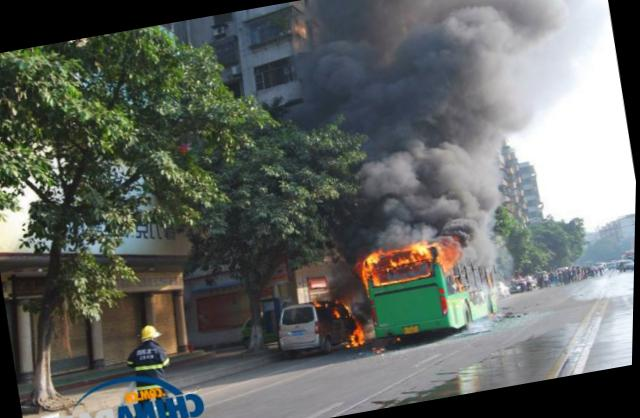fire: (352, 218, 483, 300), (310, 294, 371, 356)
